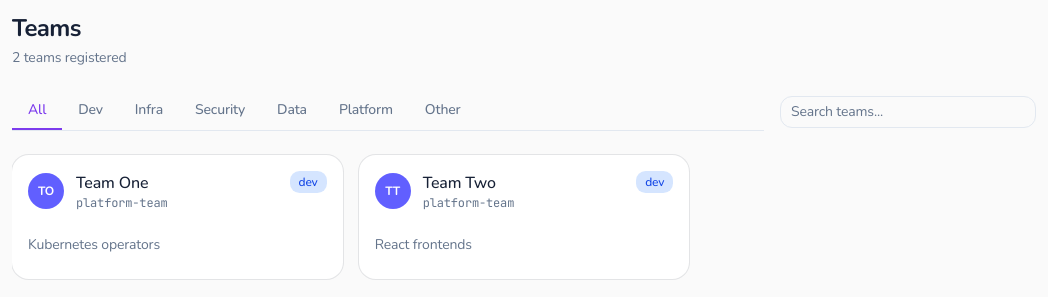
it: TeamsClient › includes team description in search matching
Check: the text "Team One" is shown, box [76,172,148,194]
Type "kubernetes" into the field with placeholder "Search teams..." at (908, 112), box [780,96,1036,128]
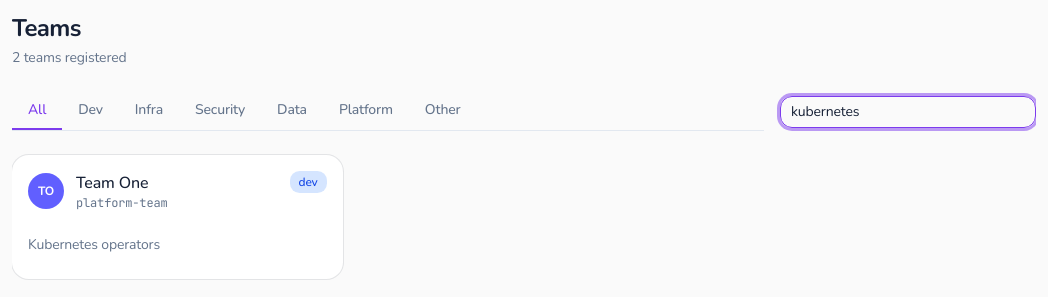
Check: the text "Team One" is shown, box [76,172,148,194]
Check: the link "Team Two" is gone
